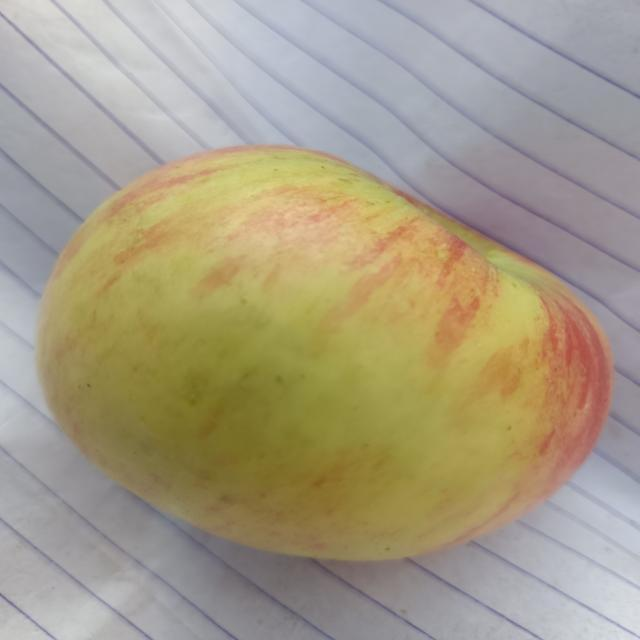Fresh Apple: (33, 144, 611, 556)
